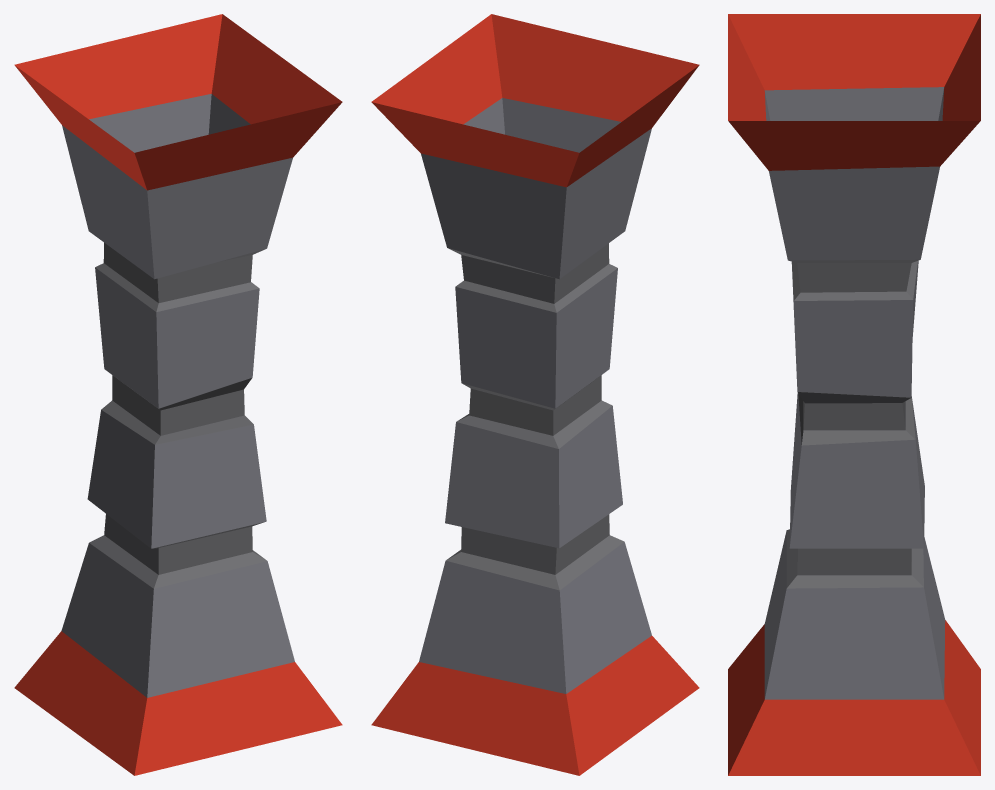
The model's file is DungeonTile_Coloumn.fbx.
3 views of the same model, side by side, from view 1: azimuth 30°, elevation 25°; view 2: azimuth 150°, elevation 25°; view 3: azimuth 270°, elevation 25° (orthographic). The views are drawn at different scales.
Visible parts, largest first — view 1: Dungeon_Coloumn; view 2: Dungeon_Coloumn; view 3: Dungeon_Coloumn.
Part boxes in pixels (<box>): Dungeon_Coloumn: <box>14,14,342,775</box>; Dungeon_Coloumn: <box>371,14,699,775</box>; Dungeon_Coloumn: <box>728,14,980,775</box>.
Bounding box in the file's own units: 0.7009 × 2 × 0.7009.
